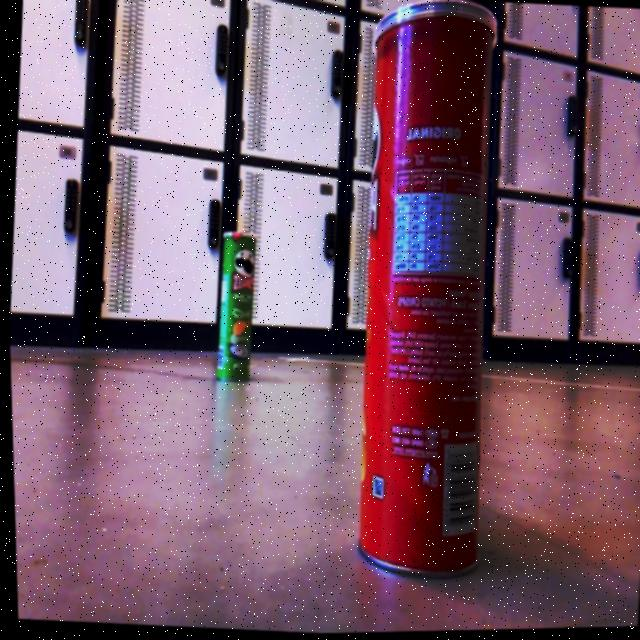greenpringles: (186, 224, 273, 398)
redpringles: (294, 0, 541, 601)
